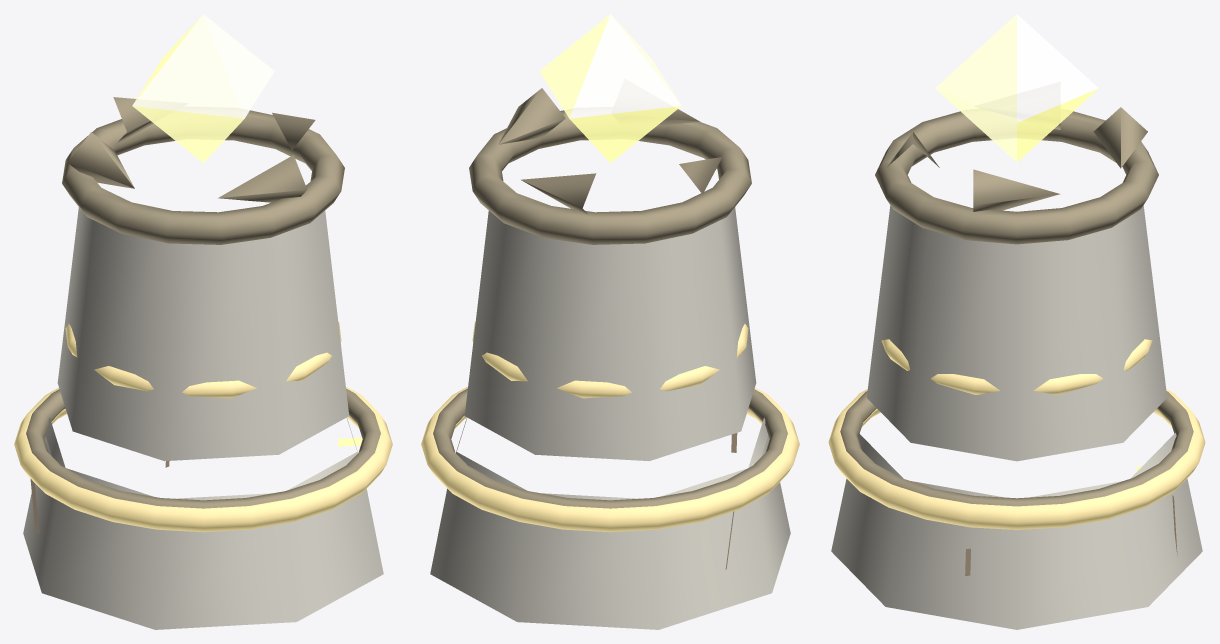
The model's file is tower_skyguard_2.glb.
3 views of the same model, side by side, from view 1: azimuth 30°, elevation 25°; view 2: azimuth 150°, elevation 25°; view 3: azimuth 270°, elevation 25° (orthographic).
Visible parts, largest first — view 1: turret, base; view 2: turret, base; view 3: turret, base.
Boxes of the visible parts, bbox=[...] form: turret: bbox=[57, 14, 349, 461]; base: bbox=[14, 322, 392, 629]; turret: bbox=[464, 14, 756, 461]; base: bbox=[421, 322, 799, 629]; turret: bbox=[866, 14, 1167, 461]; base: bbox=[828, 339, 1205, 629].
Bounding box in the file's own units: 2.76 × 4.34 × 2.76.
